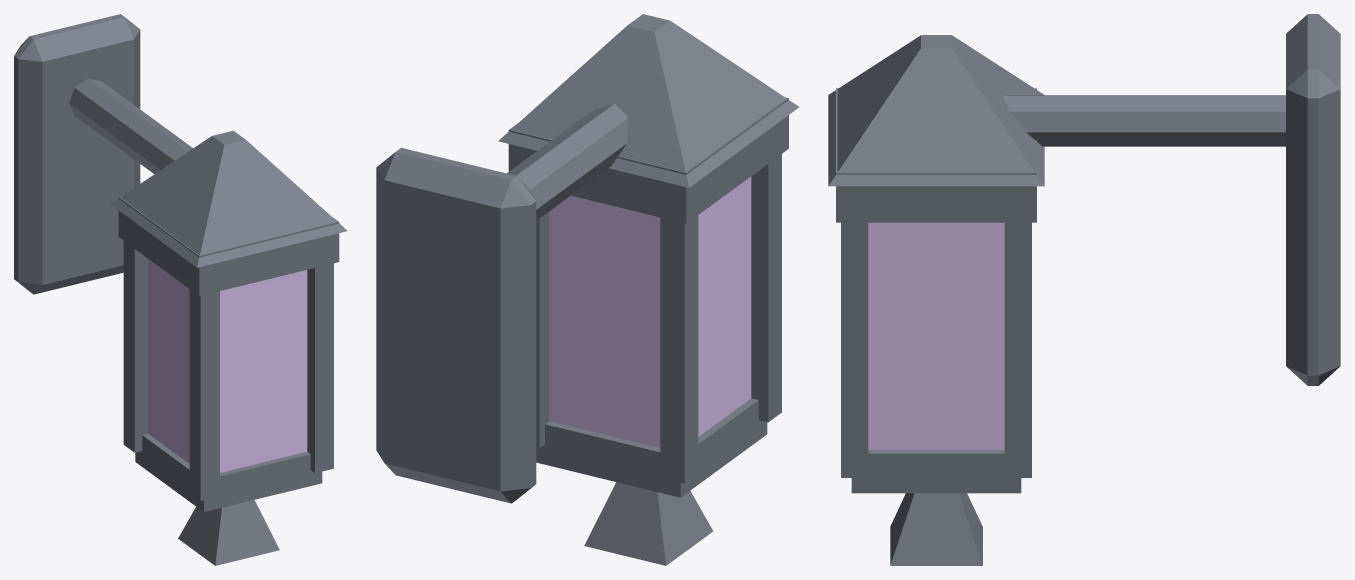
File: PR_Lanterna_Porta.fbx
The picture shows the model from 3 angles, left to right: view 1: azimuth 30°, elevation 25°; view 2: azimuth 150°, elevation 25°; view 3: azimuth 270°, elevation 25°; orthographic projection. The views are drawn at different scales.
Visible parts, largest first — view 1: PR_Lanterna_Porta; view 2: PR_Lanterna_Porta; view 3: PR_Lanterna_Porta.
Part boxes in pixels (<box>): PR_Lanterna_Porta: <box>14,14,347,565</box>; PR_Lanterna_Porta: <box>376,14,799,565</box>; PR_Lanterna_Porta: <box>828,14,1340,565</box>.
Bounding box in the file's own units: 0.198 × 0.51 × 0.469.
